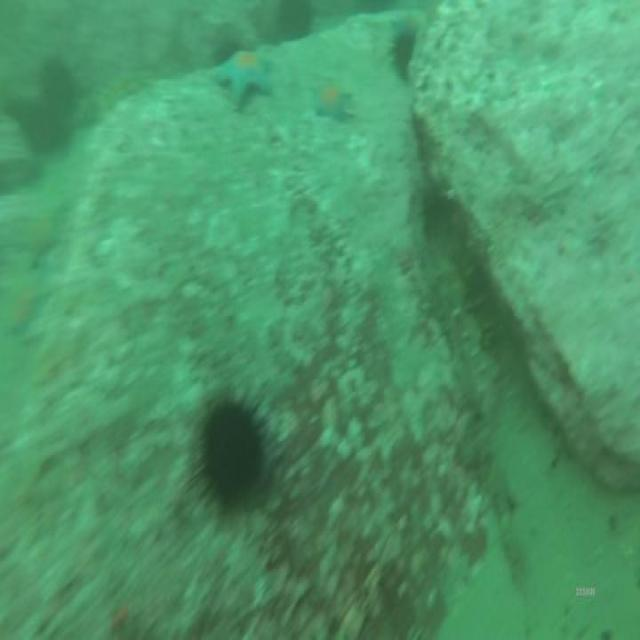echinus: (198, 398, 267, 506), (34, 59, 80, 112), (390, 26, 419, 78)
holothurian: (442, 253, 499, 384), (18, 199, 63, 264)
starfish: (218, 42, 274, 108), (314, 74, 350, 117)
